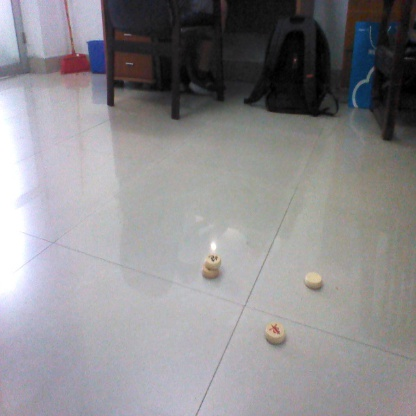chess: (199, 252, 222, 274), (263, 322, 287, 343), (303, 270, 323, 286)
